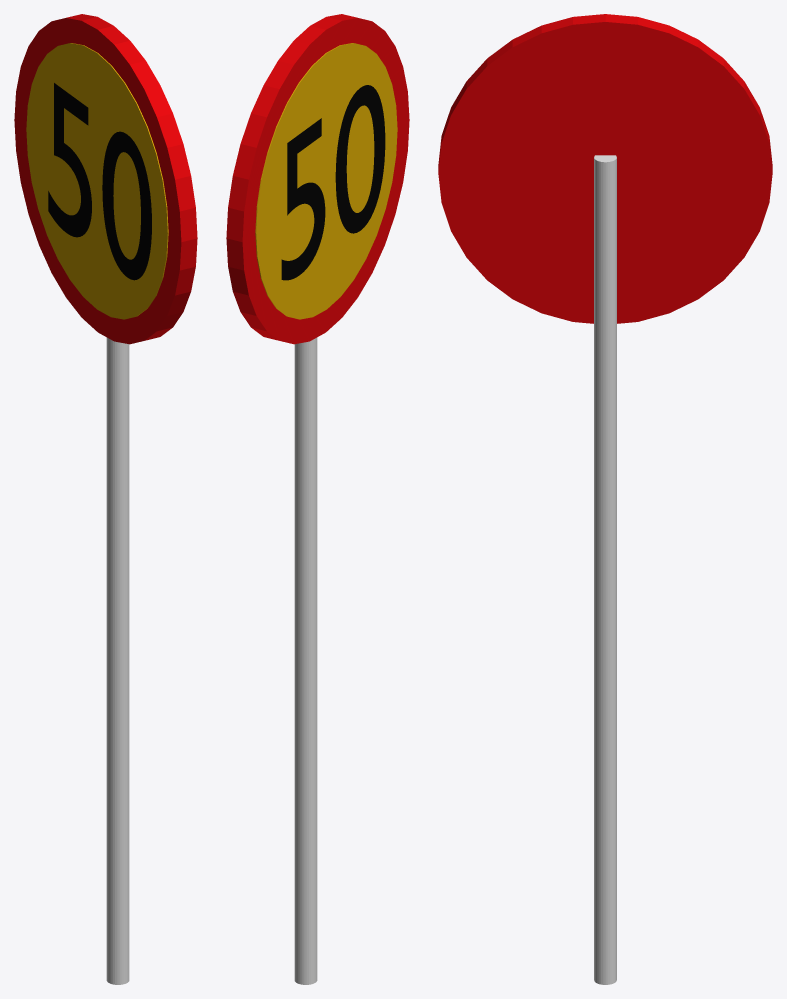
Rendered from sign_50.fbx.
The picture shows the model from 3 angles, left to right: view 1: azimuth 30°, elevation 25°; view 2: azimuth 150°, elevation 25°; view 3: azimuth 270°, elevation 25°; orthographic projection.
Parts seen in each view (by area): view 1: Cylinder.001, Cylinder.002, Cylinder, Text; view 2: Cylinder.001, Cylinder.002, Cylinder, Text; view 3: Cylinder.002, Cylinder.
Boxes of the visible parts, x1,y1,x2,y2 form: Cylinder.001: (26,43,168,319); Cylinder.002: (14,14,197,344); Cylinder: (106,337,129,984); Text: (48,83,151,280); Cylinder.001: (255,43,397,319); Cylinder.002: (226,14,409,344); Cylinder: (294,337,317,984); Text: (281,85,385,280); Cylinder.002: (438,14,772,323); Cylinder: (594,155,616,984).
Size of the model in its own units: 4.15 by 116 by 36.83.
